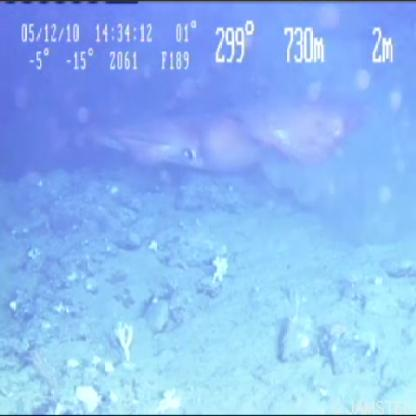Bio: (83, 91, 381, 185)
